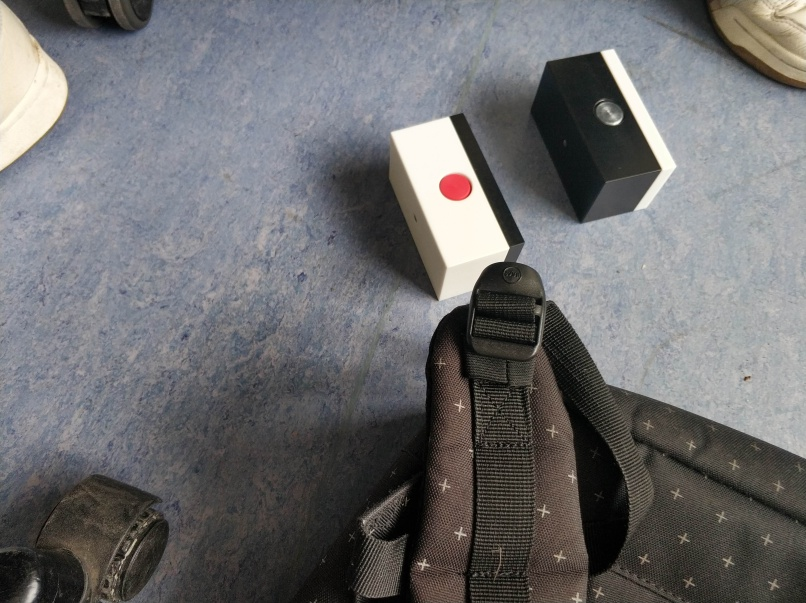black+white+red: (387, 112, 528, 303)
white+black+silver: (531, 45, 680, 226)
